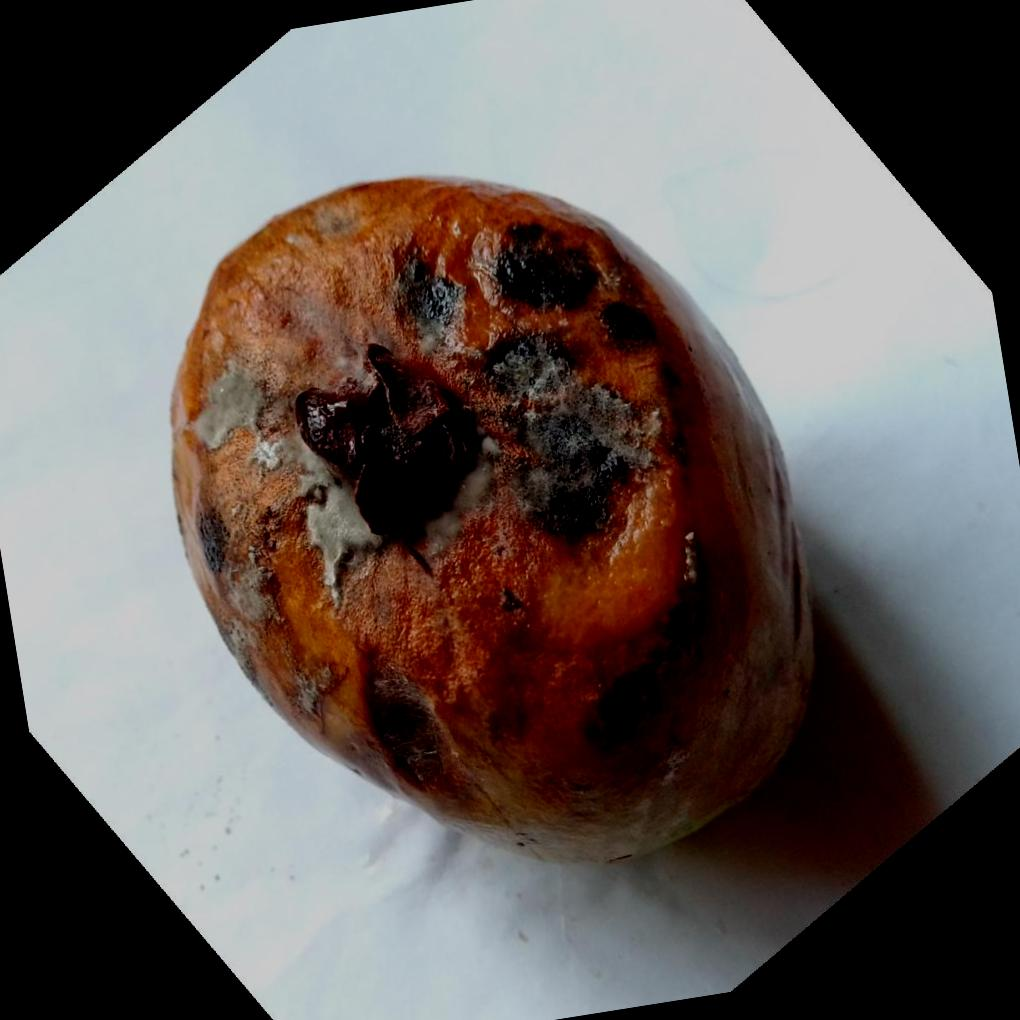FreshOrange: (168, 176, 818, 869)
